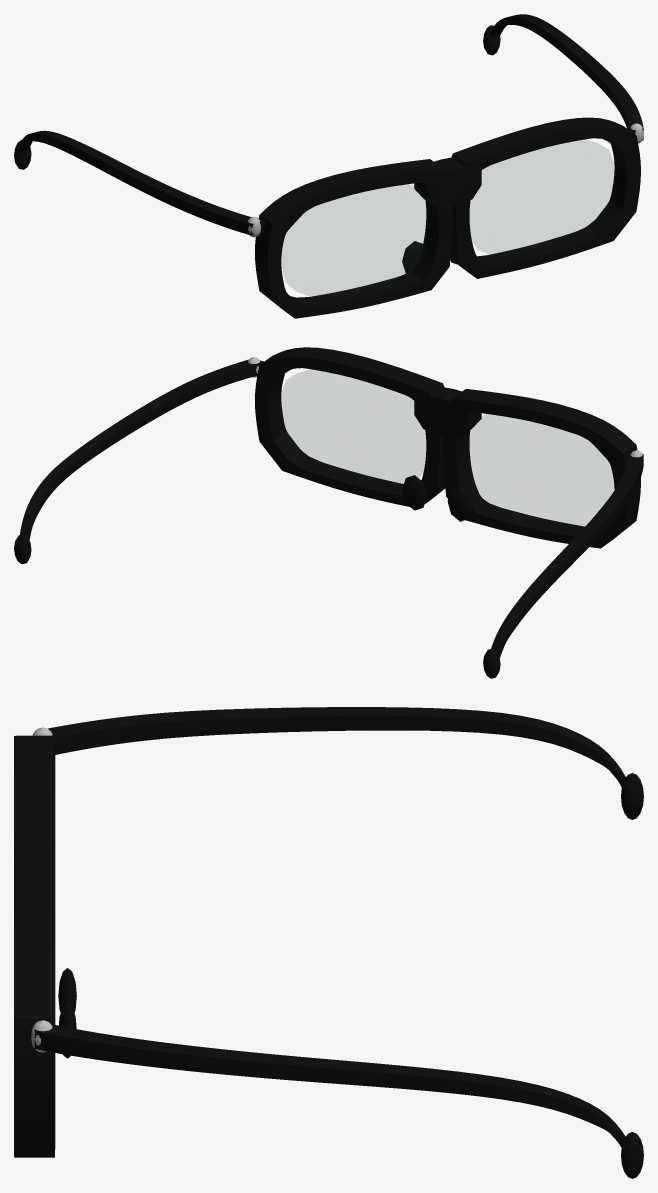
The model's file is wayfarer_v3.glb.
3 views of the same model, one above another, from view 1: azimuth 30°, elevation 25°; view 2: azimuth 150°, elevation 25°; view 3: azimuth 270°, elevation 25° (orthographic). The views are drawn at different scales.
Parts seen in each view (by area): view 1: Lens_R, Rim_R, Lens_L, Rim_L, Arm_R, Arm_L, Bridge; view 2: Lens_L, Lens_R, Rim_L, Rim_R, Arm_L, Arm_R, Bridge, Pad_R, Pad_L; view 3: Arm_L, Arm_R, Rim_L, Rim_R, Tip_R, Tip_L.
Part boxes in pixels (bbox=[...]): Lens_R: bbox=[282, 185, 427, 295]; Rim_R: bbox=[255, 159, 452, 318]; Lens_L: bbox=[470, 140, 615, 253]; Rim_L: bbox=[450, 117, 640, 278]; Arm_R: bbox=[19, 130, 265, 235]; Arm_L: bbox=[490, 14, 643, 140]; Bridge: bbox=[414, 157, 481, 207]; Lens_L: bbox=[280, 370, 425, 483]; Lens_R: bbox=[468, 414, 613, 525]; Rim_L: bbox=[255, 347, 445, 506]; Rim_R: bbox=[443, 389, 640, 548]; Arm_L: bbox=[20, 359, 263, 540]; Arm_R: bbox=[491, 451, 643, 657]; Bridge: bbox=[414, 387, 481, 437]; Pad_R: bbox=[447, 486, 472, 521]; Pad_L: bbox=[402, 475, 426, 510]; Arm_L: bbox=[34, 1020, 626, 1152]; Arm_R: bbox=[48, 707, 625, 789]; Rim_L: bbox=[14, 865, 55, 1157]; Rim_R: bbox=[14, 735, 55, 859]; Tip_R: bbox=[621, 773, 643, 819]; Tip_L: bbox=[621, 1132, 643, 1178].
Size of the model in its own units: 1.39 by 0.3476 by 0.9922.
